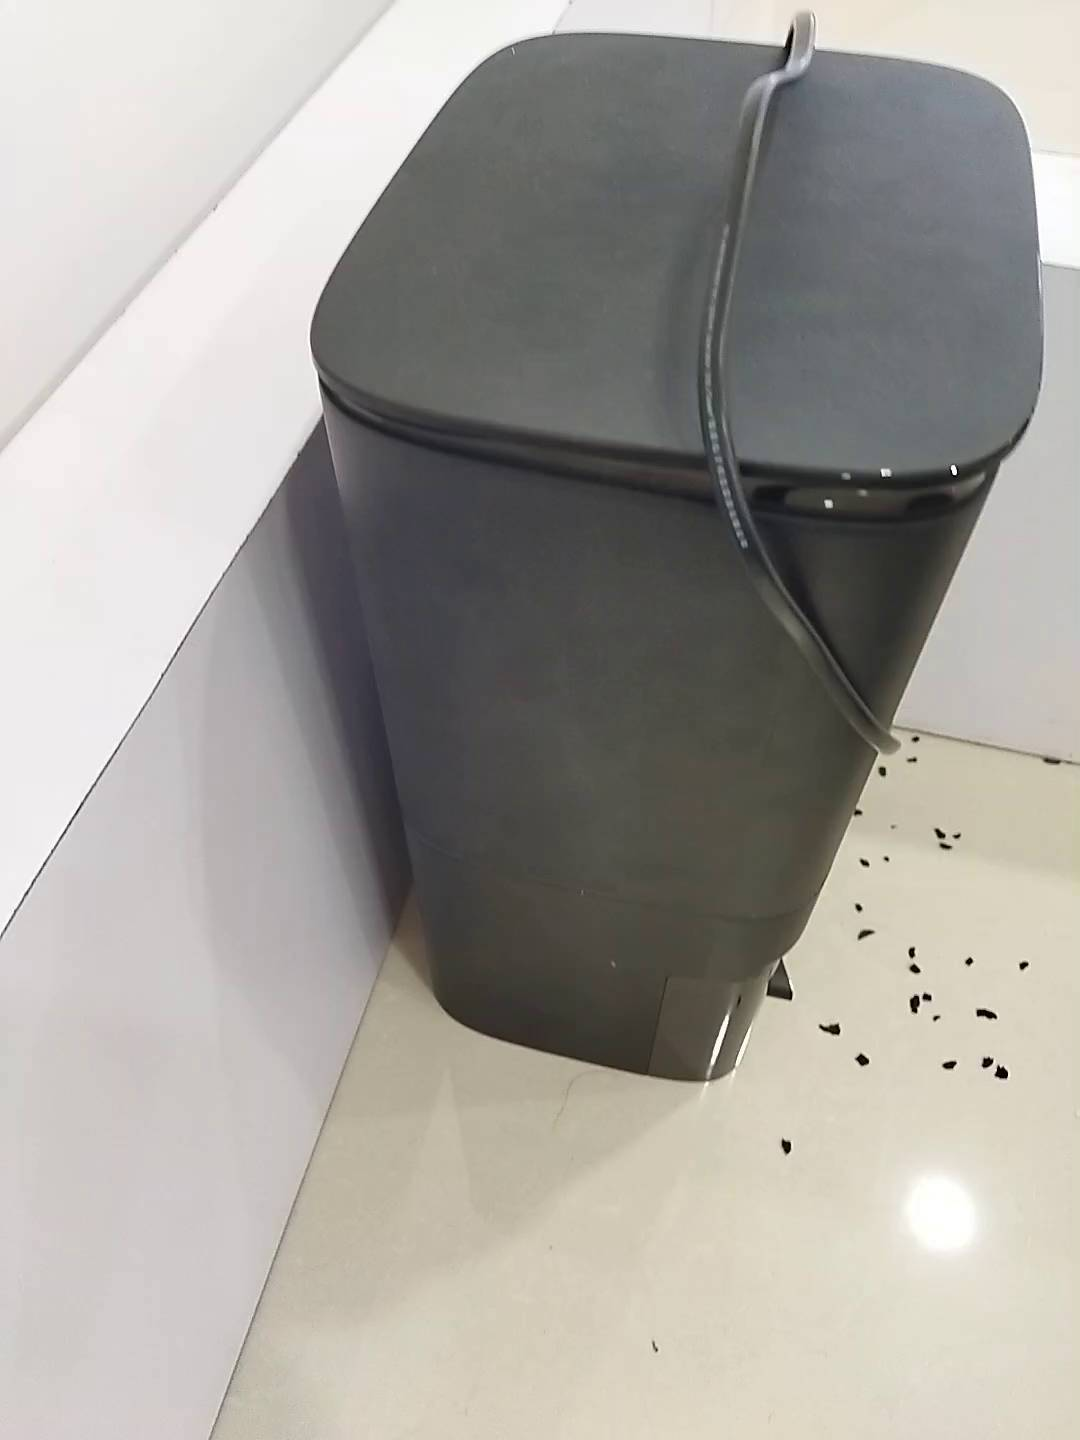dust collecting barrel: (310, 32, 1045, 1083)
